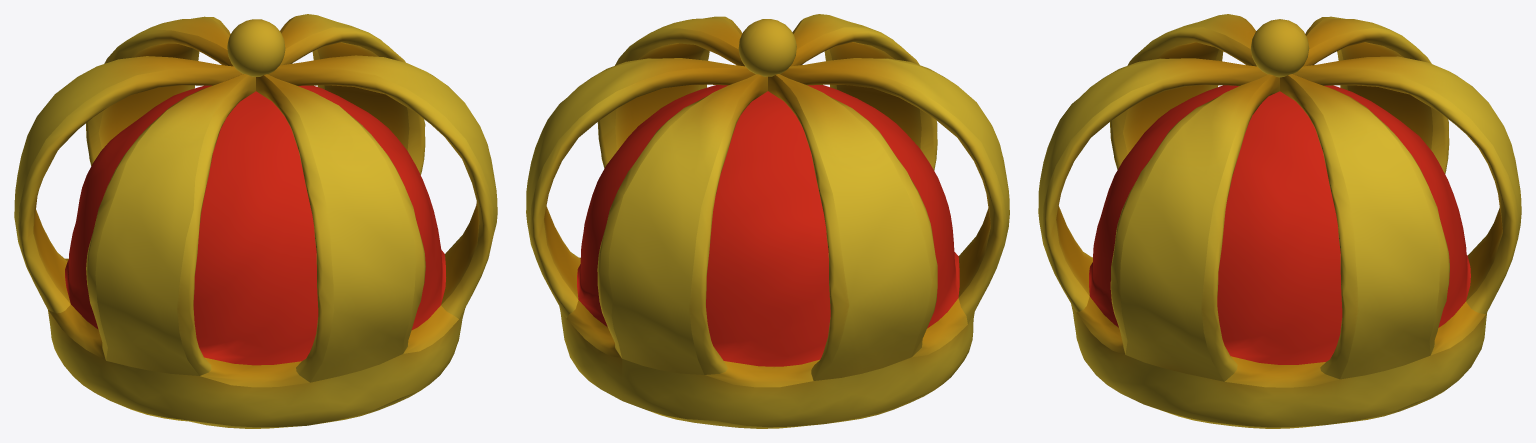
The model's file is CrownHat.fbx.
The picture shows the model from 3 angles, left to right: view 1: azimuth 30°, elevation 25°; view 2: azimuth 150°, elevation 25°; view 3: azimuth 270°, elevation 25°; orthographic projection.
Visible parts, largest first — view 1: m_CrownHat02.001, Icosphere; view 2: m_CrownHat02.001, Icosphere; view 3: m_CrownHat02.001, Icosphere.
Boxes of the visible parts, x1,y1,x2,y2 form: m_CrownHat02.001: (14, 14, 497, 428); Icosphere: (227, 19, 285, 76); m_CrownHat02.001: (526, 14, 1009, 428); Icosphere: (738, 19, 796, 76); m_CrownHat02.001: (1038, 14, 1521, 428); Icosphere: (1250, 19, 1309, 77).
Size of the model in its own units: 543 by 419 by 562.
2 materials, 1 textured.
